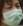with_mask: (2, 2, 23, 26)
